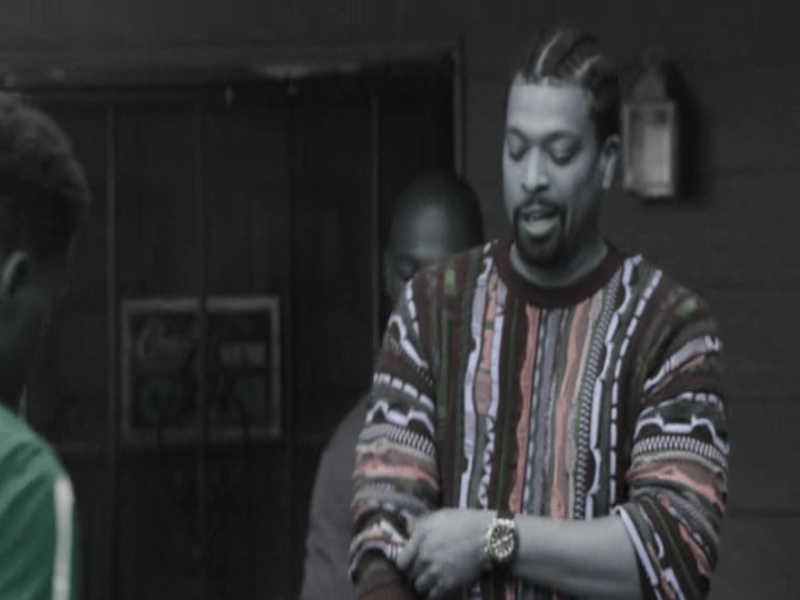TsisyArotava: (498, 69, 595, 266)
